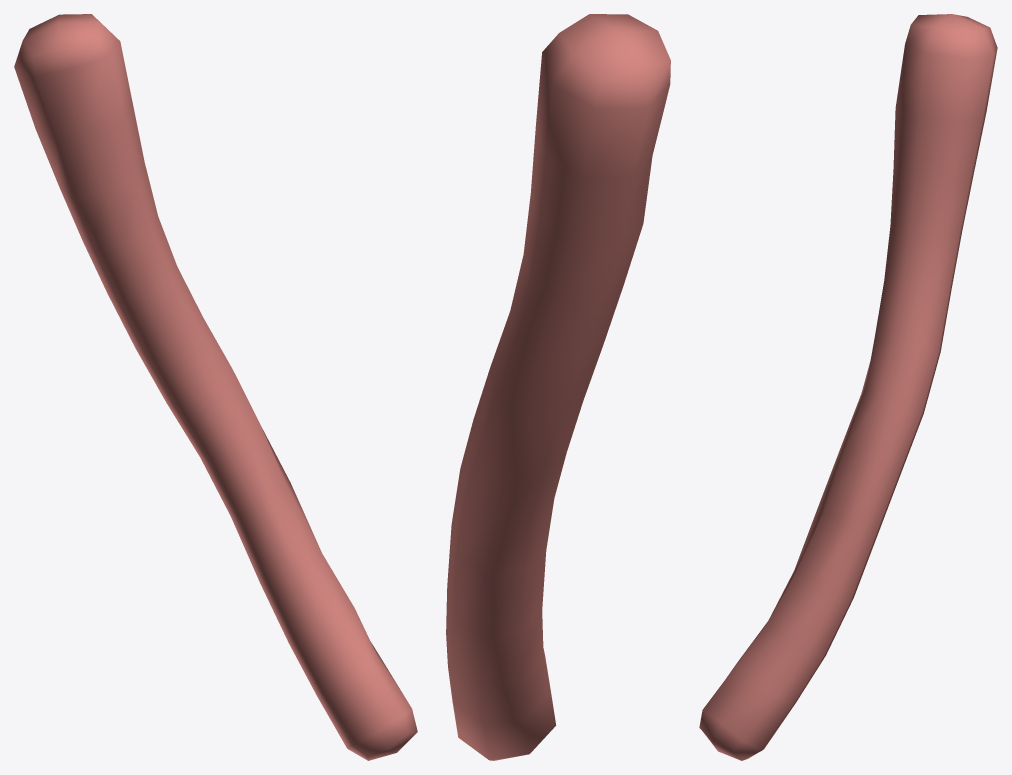
3 renders of one model, left to right at view 1: azimuth 30°, elevation 25°; view 2: azimuth 150°, elevation 25°; view 3: azimuth 270°, elevation 25°, orthographic. The views are drawn at different scales.
Visible parts, largest first — view 1: ZA_643f059453d247cc; view 2: ZA_643f059453d247cc; view 3: ZA_643f059453d247cc.
Boxes of the visible parts, <box> form: ZA_643f059453d247cc: <box>14,14,417,760</box>; ZA_643f059453d247cc: <box>446,14,670,760</box>; ZA_643f059453d247cc: <box>699,14,997,760</box>.
Bounding box in the file's own units: 0.0301 × 0.0731 × 0.0303.
